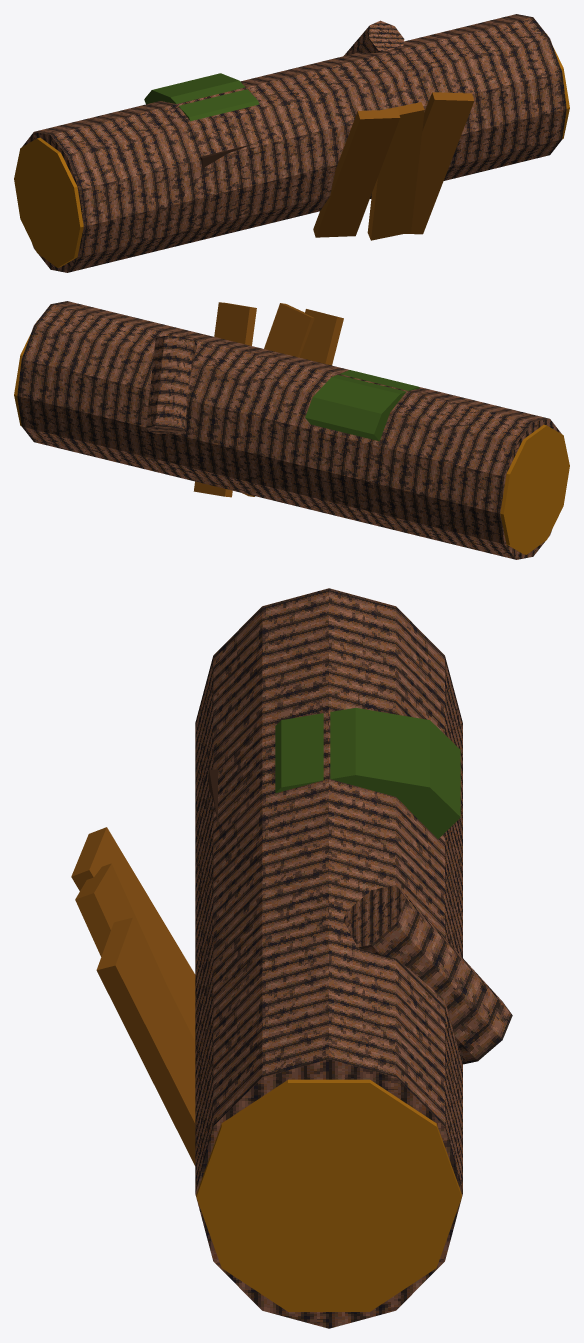
Rendered from tronco_caido.glb.
The picture shows the model from 3 angles, top to bottom: view 1: azimuth 30°, elevation 25°; view 2: azimuth 150°, elevation 25°; view 3: azimuth 270°, elevation 25°; orthographic projection. The views are drawn at different scales.
Visible parts, largest first — view 1: Cylinder, Cylinder.001, Cube.001, Cube.002, Cube.003, Cylinder.004, Cylinder.003; view 2: Cylinder, Cylinder.001, Cylinder.004, Cylinder.003, Cube.003, Cube.002, Cube.001; view 3: Cylinder, Cylinder.002, Cylinder.004, Cylinder.003, Cube.003, Cube.001, Cube.002.
Part boxes in pixels (x1,y1,x2,y2): Cylinder: (22,14,566,272); Cylinder.001: (14,137,83,267); Cube.001: (313,109,400,237); Cube.002: (367,102,424,240); Cube.003: (405,92,474,234); Cylinder.004: (144,73,259,121); Cylinder.003: (343,20,404,56); Cylinder: (17,301,561,559); Cylinder.001: (500,424,569,554); Cylinder.004: (305,370,419,441); Cylinder.003: (146,336,196,433); Cube.003: (193,302,256,497); Cube.002: (242,303,314,496); Cube.001: (300,309,343,365); Cylinder: (195,588,462,1328); Cylinder.002: (196,1079,461,1311); Cylinder.004: (275,707,460,838); Cylinder.003: (343,885,512,1064); Cube.003: (96,917,195,1165); Cube.001: (71,827,195,1040); Cube.002: (75,863,165,982).
Size of the model in its own units: 2.13 by 0.7744 by 0.8317.
5 materials, 1 textured.
